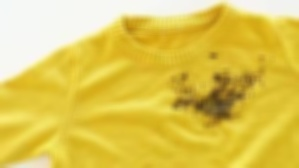earth: (170, 72, 258, 126)
